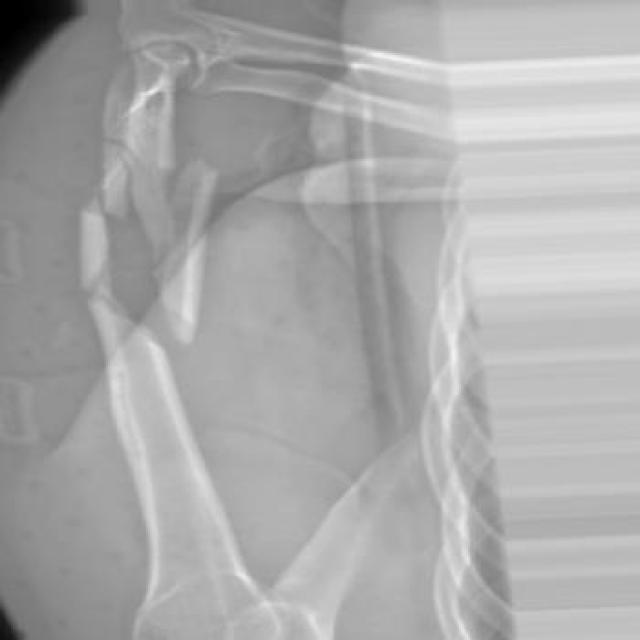Fracture: (66, 128, 235, 357)
